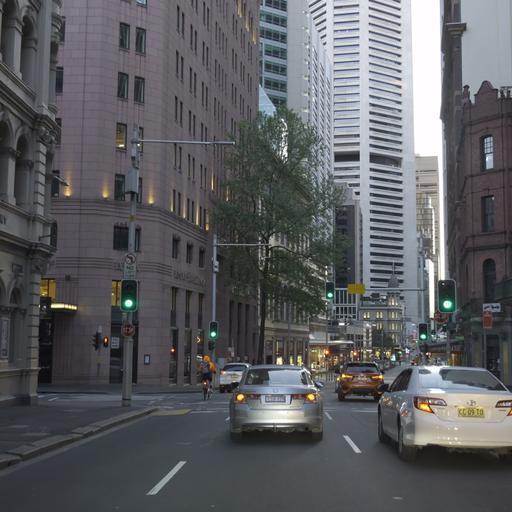Street light: (119, 135, 236, 406), (209, 236, 270, 362), (437, 278, 456, 313), (119, 279, 137, 311), (52, 172, 71, 198), (208, 320, 218, 339), (325, 281, 334, 299), (418, 322, 427, 340)
